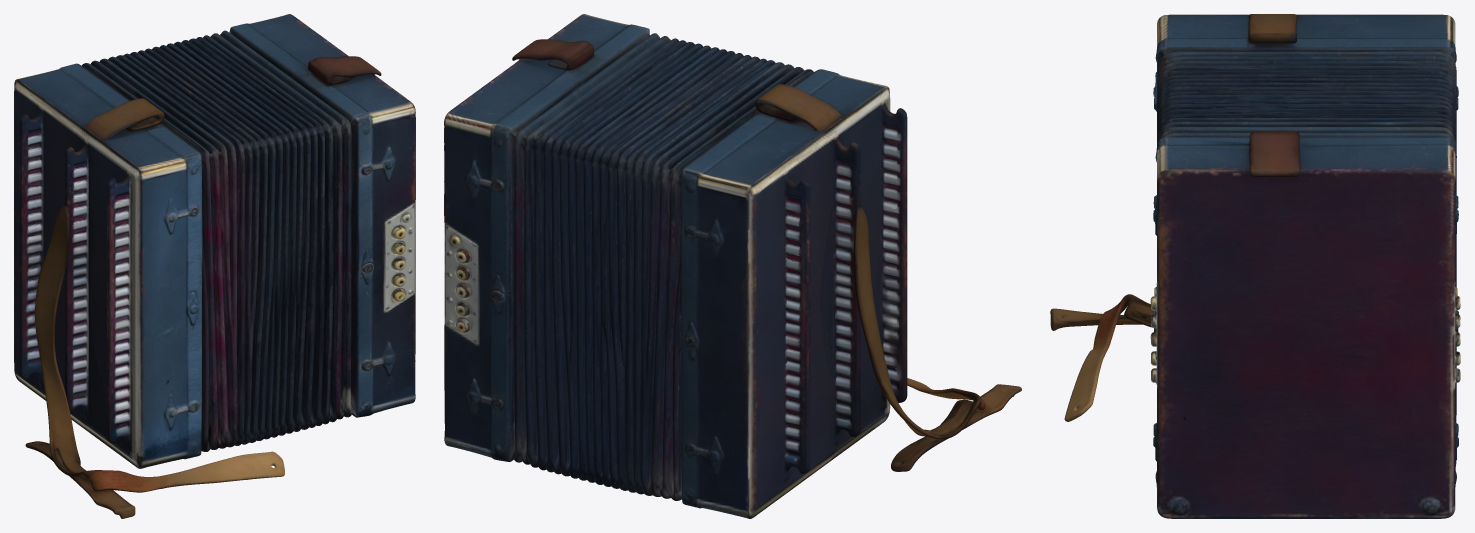
Rendered from 047-tradicionnaya-garmon.glb.
3 renders of one model, left to right at view 1: azimuth 30°, elevation 25°; view 2: azimuth 150°, elevation 25°; view 3: azimuth 270°, elevation 25°, orthographic. The views are drawn at different scales.
Parts seen in each view (by area): view 1: node_0; view 2: node_0; view 3: node_0.
Boxes of the visible parts, left/top/right/bottom form: node_0: left=14, top=14, right=415, bottom=518; node_0: left=444, top=14, right=1021, bottom=518; node_0: left=1050, top=14, right=1460, bottom=518.
Size of the model in its own units: 0.7811 by 0.6796 by 0.6765.
1 material, 1 textured.
